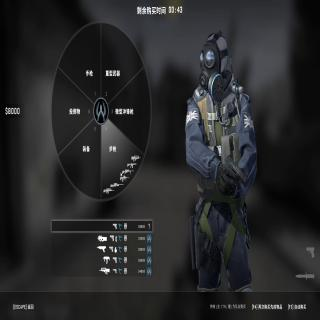CT-Body: (185, 31, 257, 294)
CT-Head: (198, 31, 228, 96)
